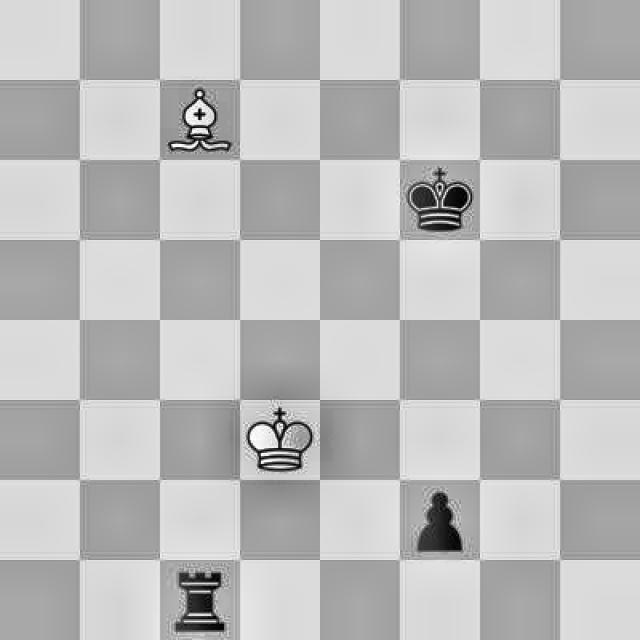black king: (398, 162, 474, 242)
black pawn: (404, 482, 470, 558)
black rook: (172, 568, 232, 635)
white bishop: (166, 83, 234, 160)
white king: (245, 404, 312, 477)
